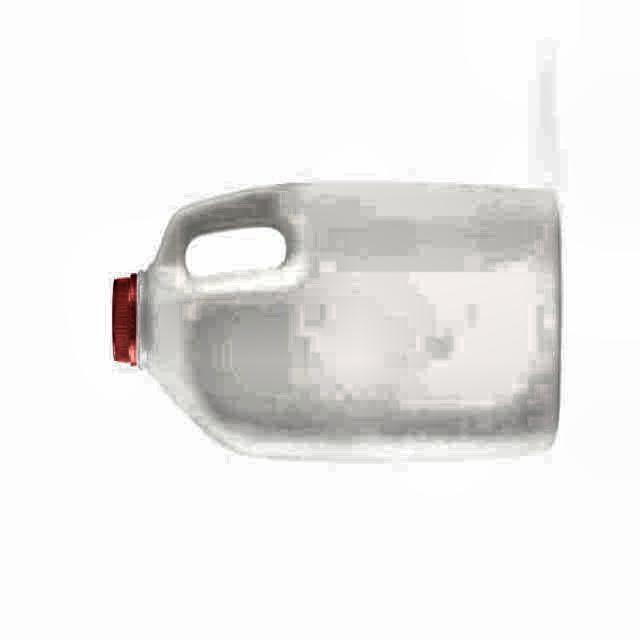plastic: (115, 184, 560, 457)
